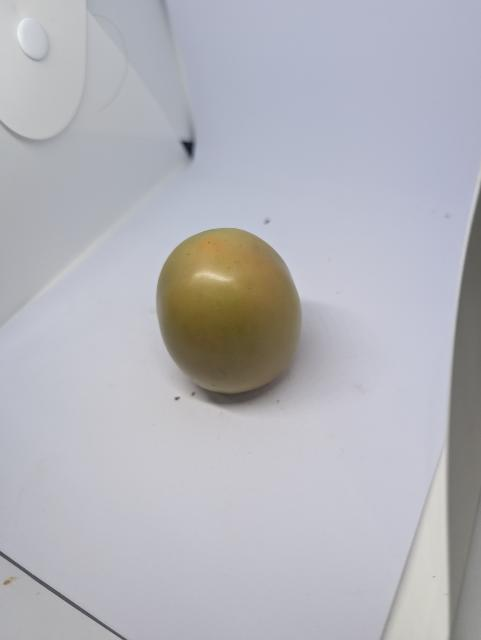breaker: (157, 228, 302, 393)
